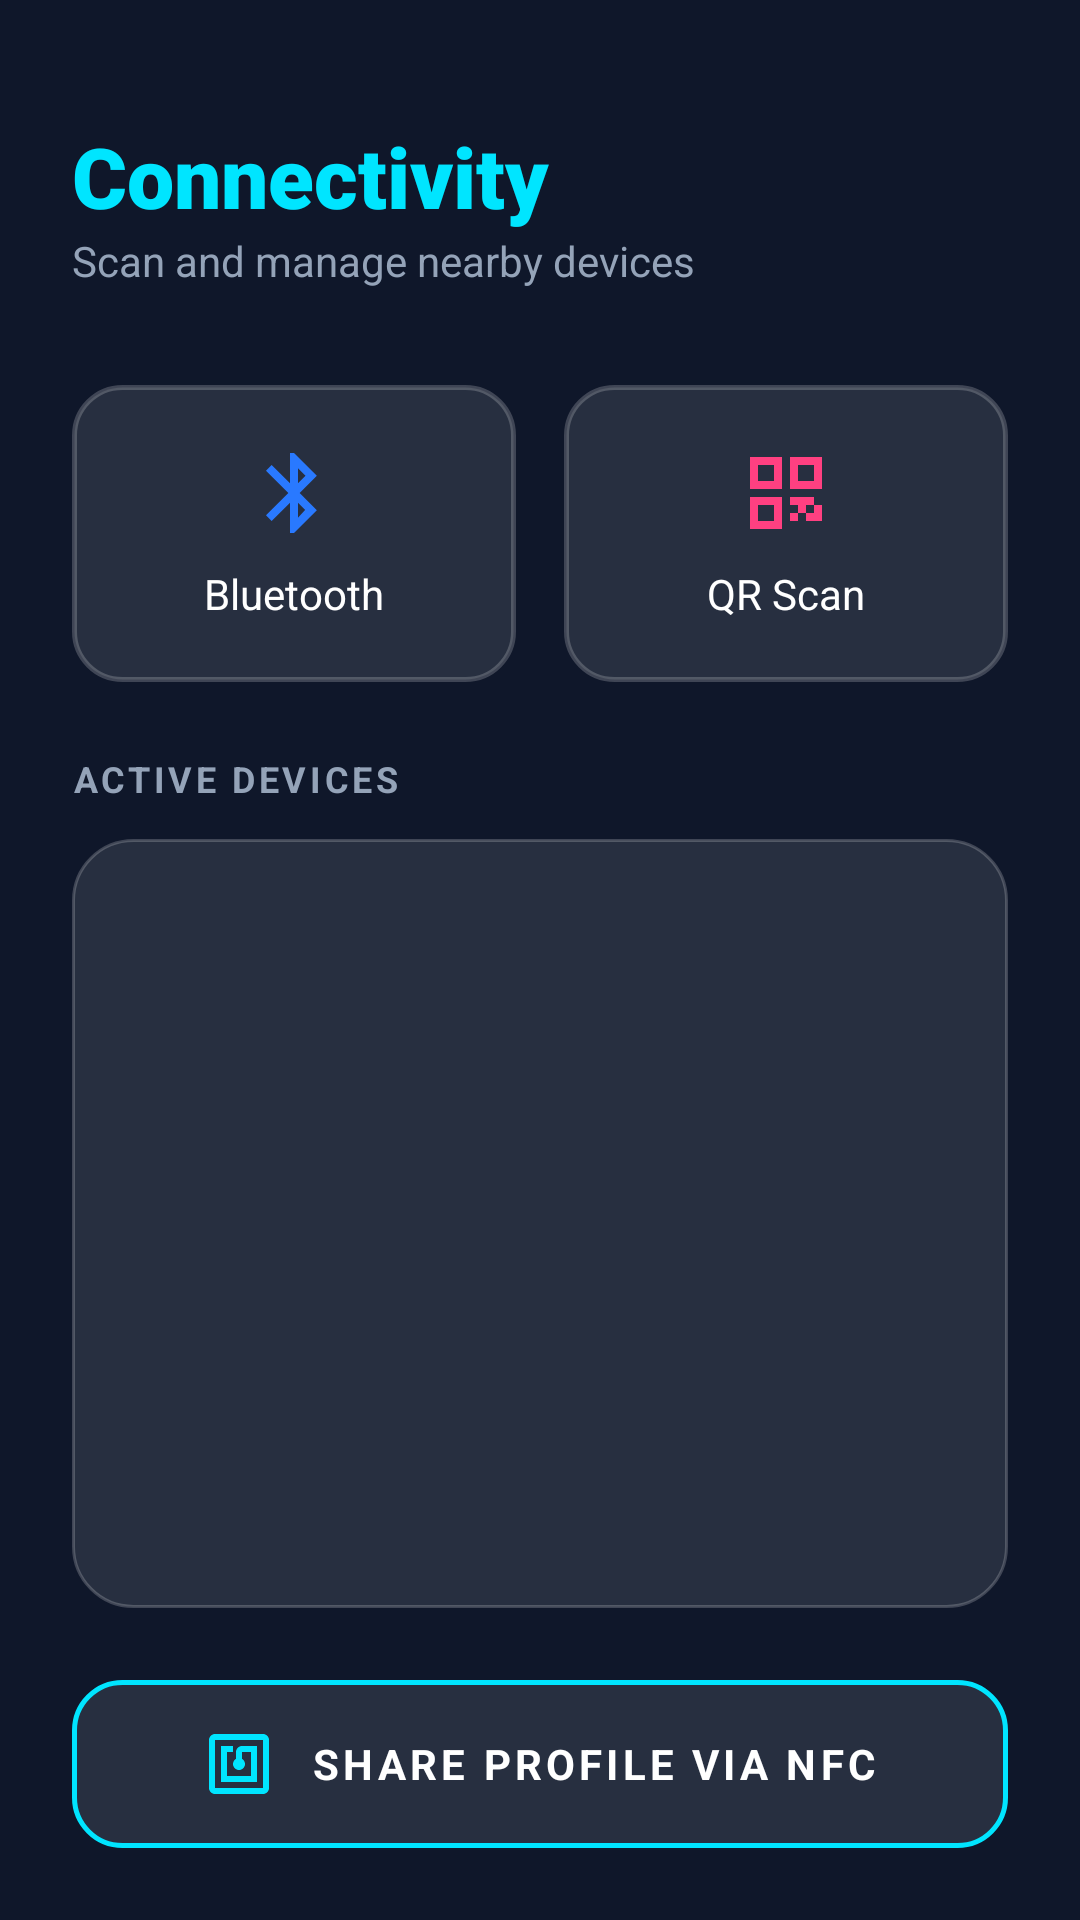

Screen size 1080x1920. Icon name, then its center in pixels as point (x, y):
qr code: point (786, 493)
